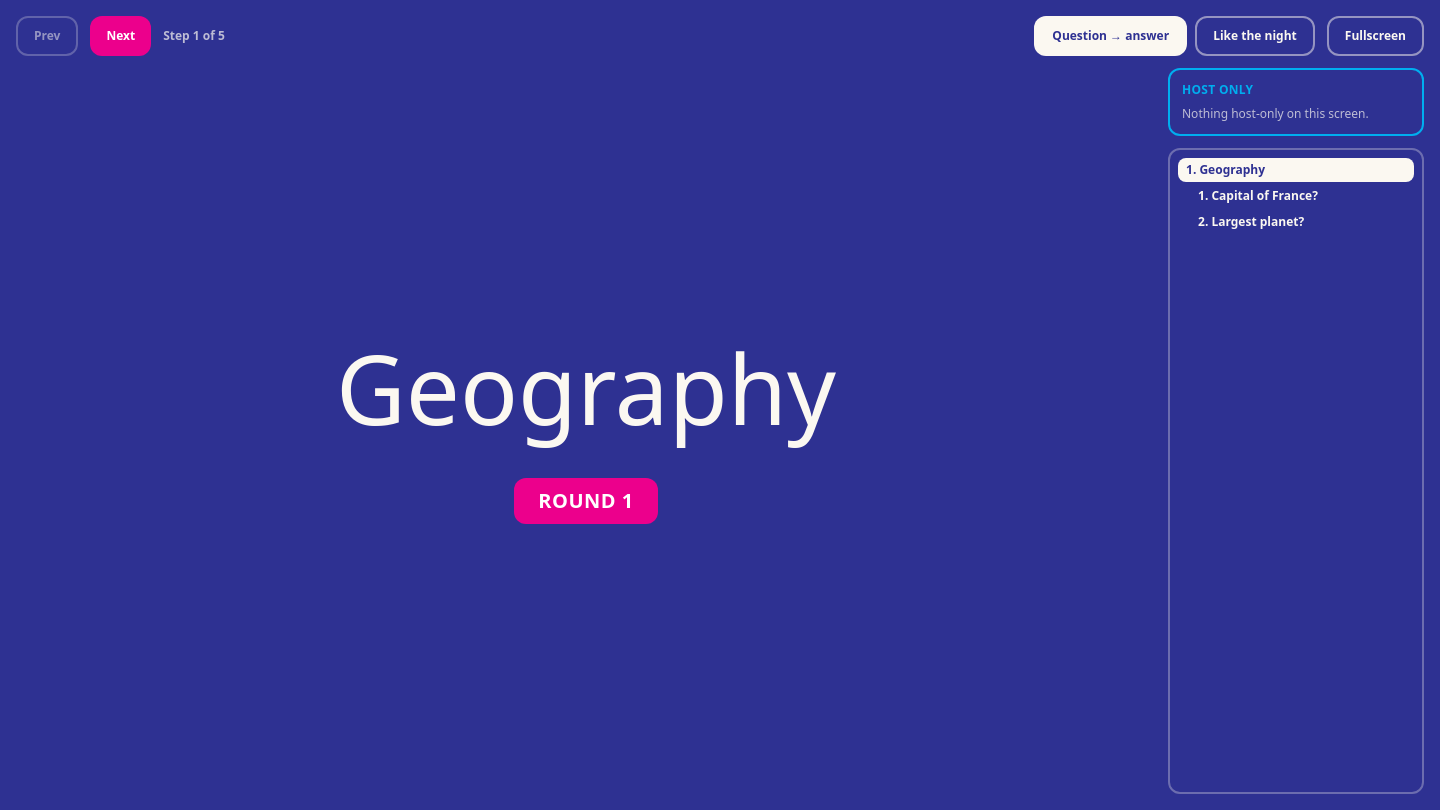
Test: QuizPreviewPanel › jump list › moves to the chosen question and writes it to the URL
expect the button "Next" is shown: met, box [90,16,151,56]
Click the button "2. Largest planet?" at (1296, 222), box [1178,210,1414,234]
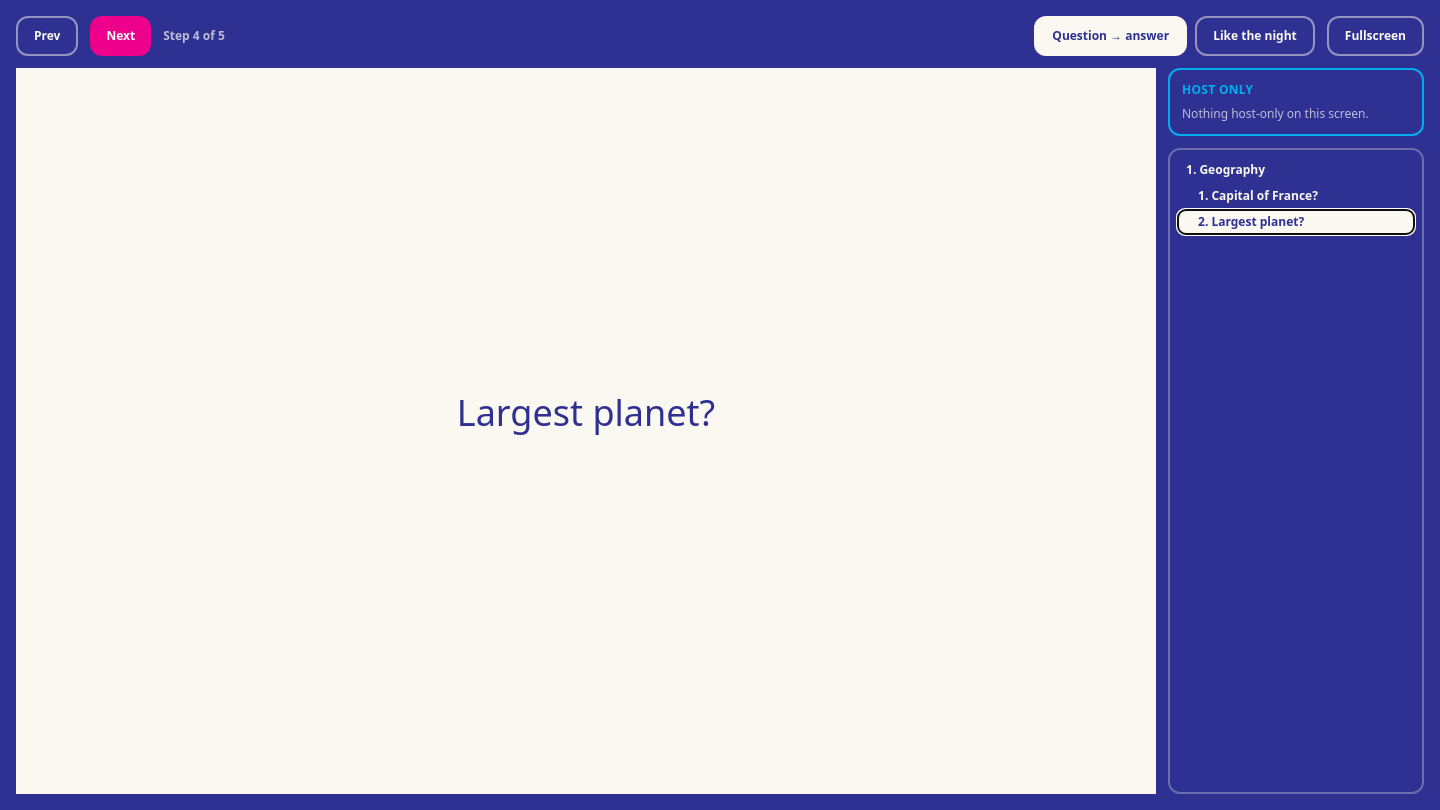
expect the text "Step 4 of 5" is shown: met, box [163,28,225,44]
